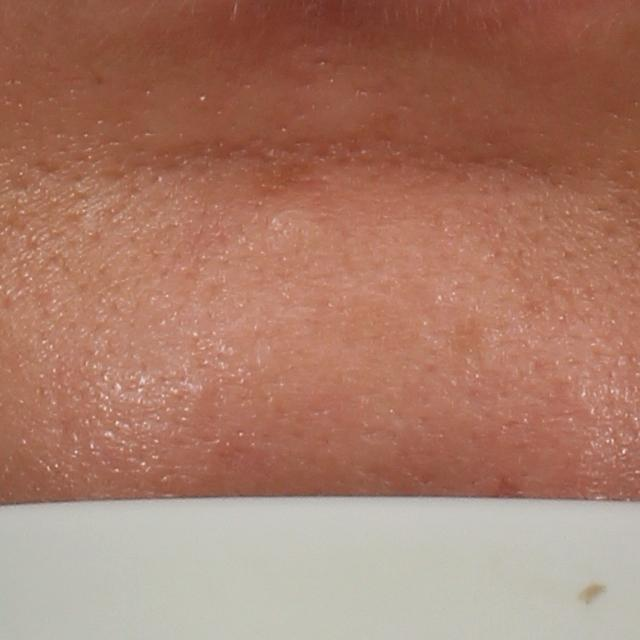hypertrophic_scar: (274, 65, 401, 157)
